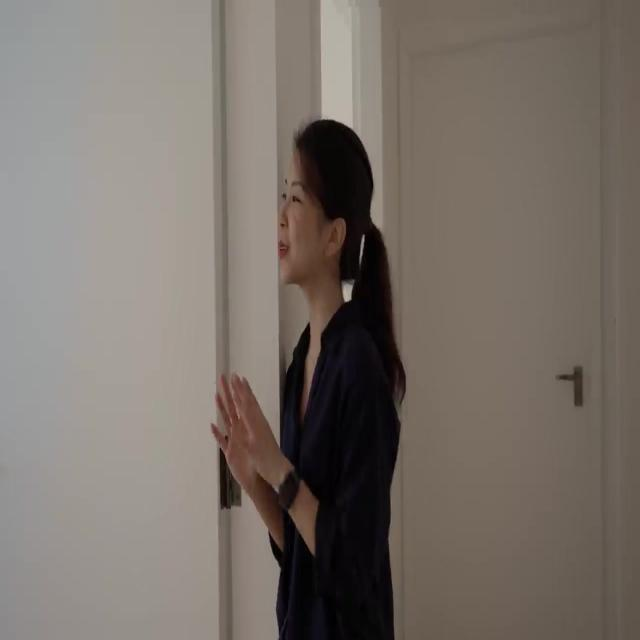door: (399, 42, 596, 640)
person: (210, 117, 404, 638)
